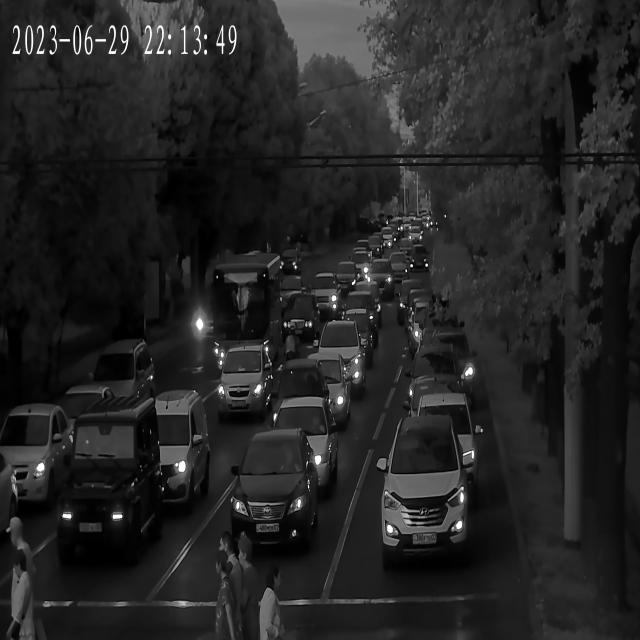Bus: (56, 394, 166, 574), (200, 252, 285, 376)
Car: (379, 415, 476, 567), (230, 432, 314, 551), (128, 392, 213, 503), (0, 402, 75, 501), (259, 402, 335, 488), (402, 399, 479, 483), (268, 362, 342, 432), (250, 426, 319, 498), (215, 341, 279, 418), (308, 324, 368, 386), (414, 334, 476, 392), (404, 370, 468, 424), (407, 348, 467, 405), (296, 354, 353, 404), (330, 312, 378, 366), (280, 290, 320, 340), (336, 291, 381, 331), (399, 285, 437, 330), (344, 281, 383, 320), (308, 273, 346, 311), (365, 261, 398, 291), (332, 262, 362, 290), (347, 255, 371, 277), (410, 250, 431, 274)
